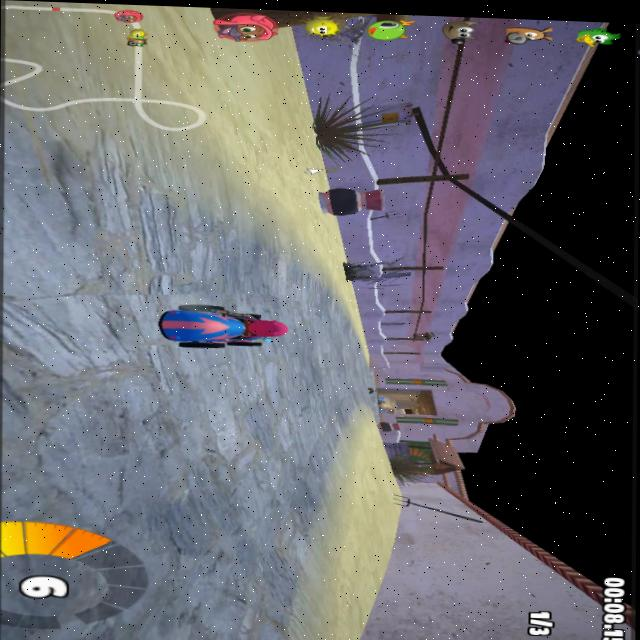player_kart: (151, 299, 285, 355)
